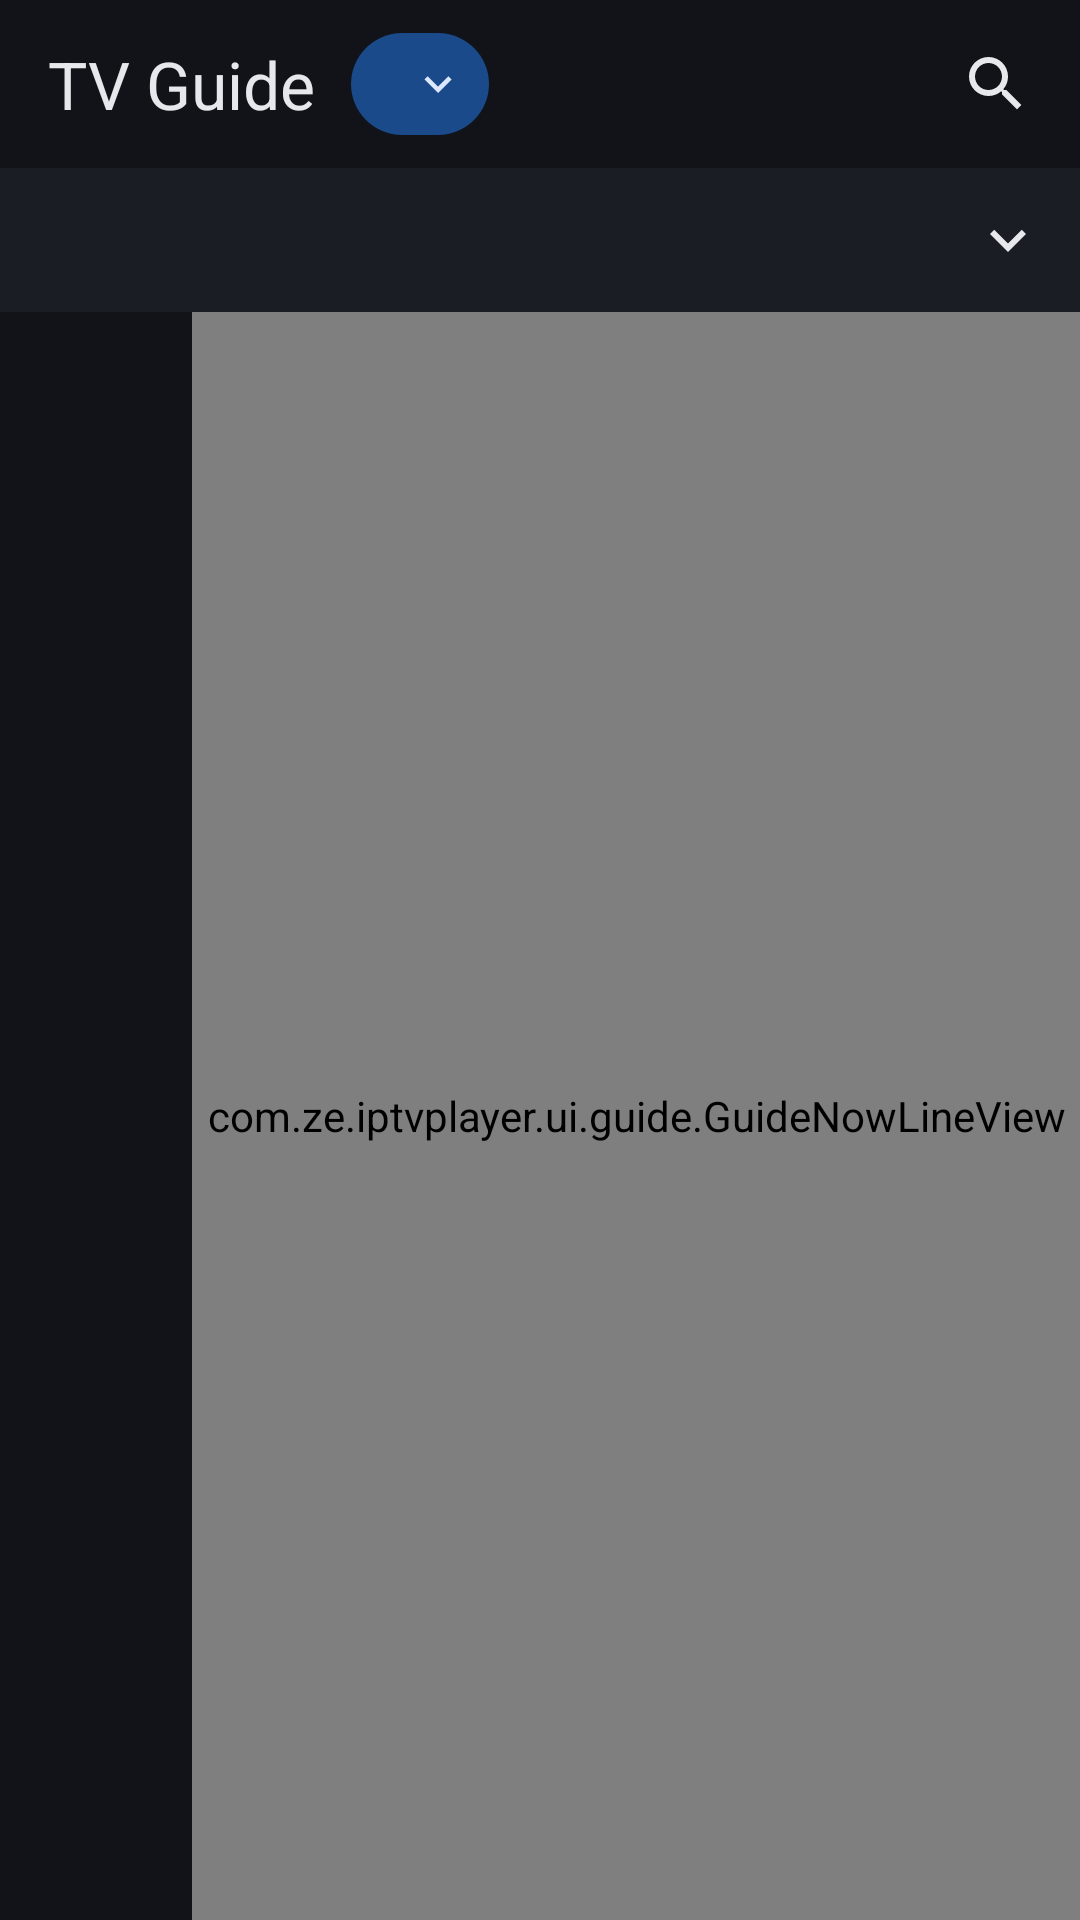

Icon bounding boxes for this 1080×1920 phone screenshot, format (x1, y1, x2, y2):
Search: (969, 57, 1021, 109)
